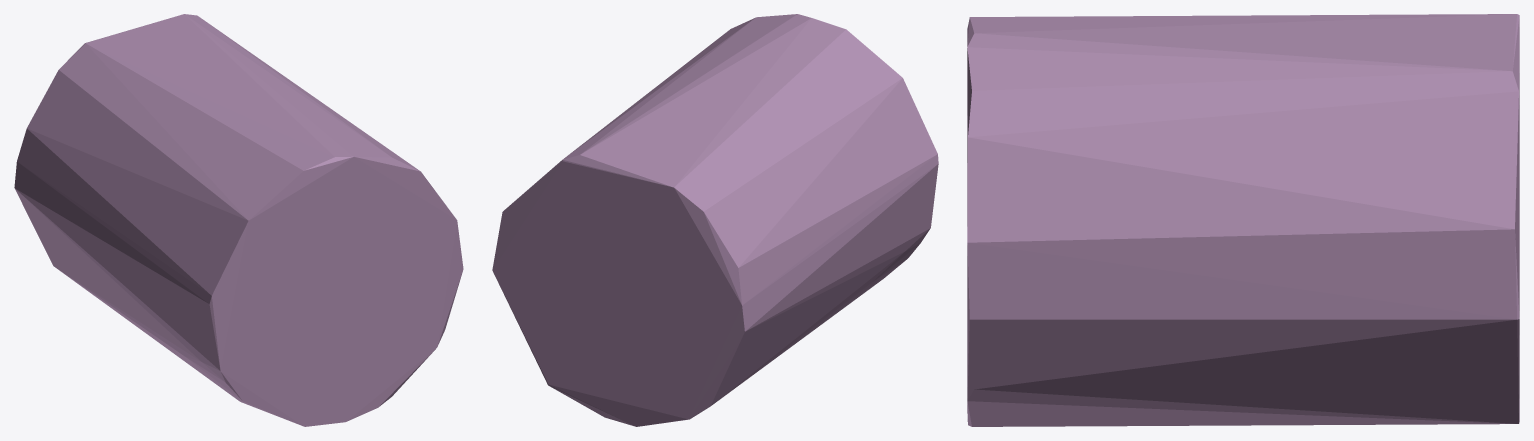
The model's file is food_canned_peach_a01.glb.
The picture shows the model from 3 angles, left to right: view 1: azimuth 30°, elevation 25°; view 2: azimuth 150°, elevation 25°; view 3: azimuth 270°, elevation 25°; orthographic projection. The views are drawn at different scales.
Visible parts, largest first — view 1: geometry_0; view 2: geometry_0; view 3: geometry_0.
Boxes of the visible parts, left/top/right/bottom form: geometry_0: left=14, top=14, right=463, bottom=426; geometry_0: left=492, top=14, right=938, bottom=426; geometry_0: left=967, top=14, right=1519, bottom=426.
Size of the model in its own units: 0.3578 by 0.3575 by 0.48.
